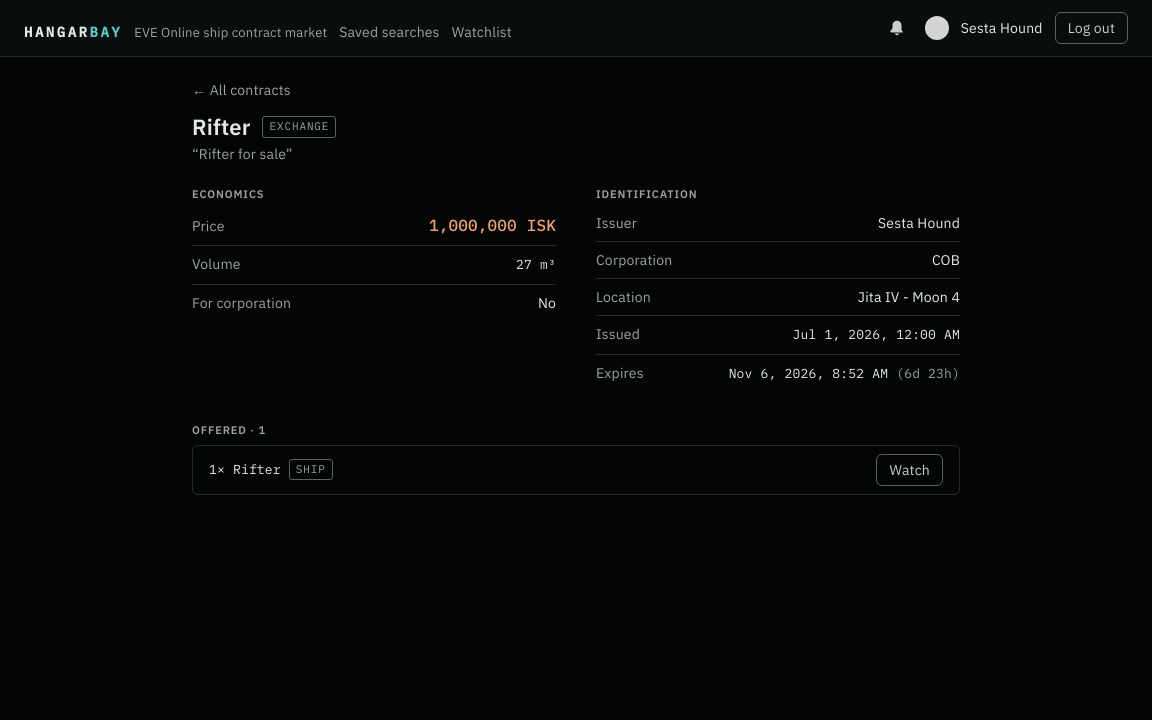
Test: WatchButton › surfaces a brief failure message on a non-409 error (500)
Click the button "Watch": (910, 470) [876,454,943,486]
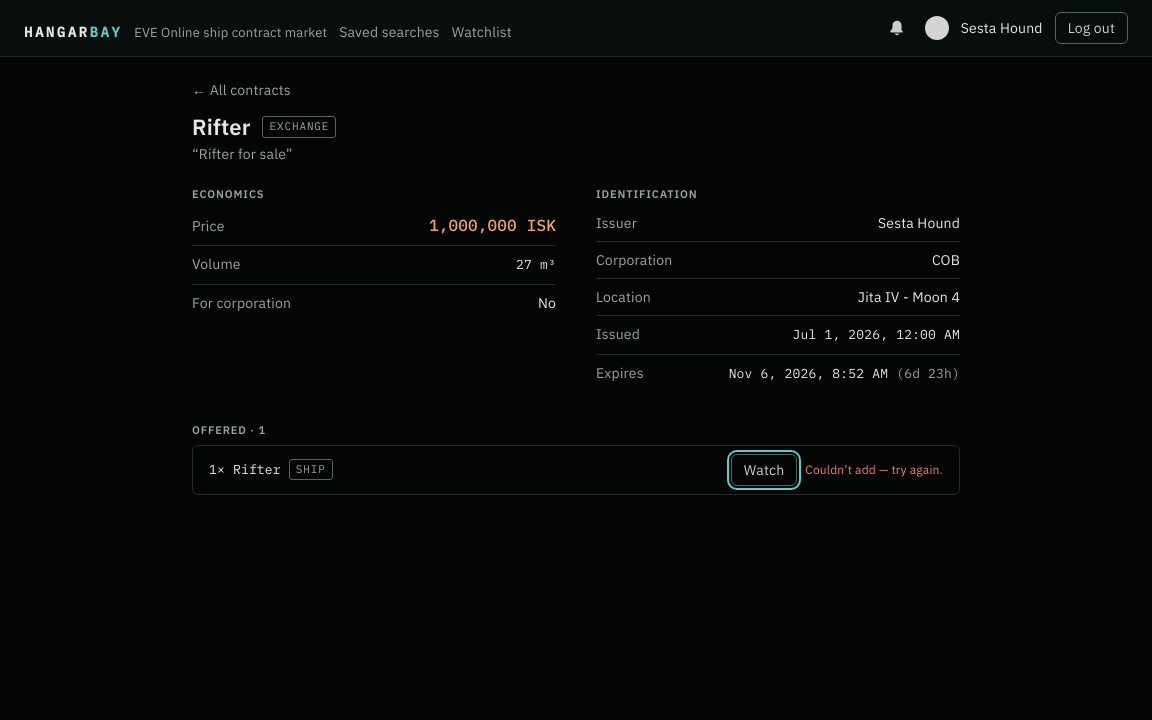
Check: the text "Couldn’t add — try again." is shown, box [805,462,943,478]
